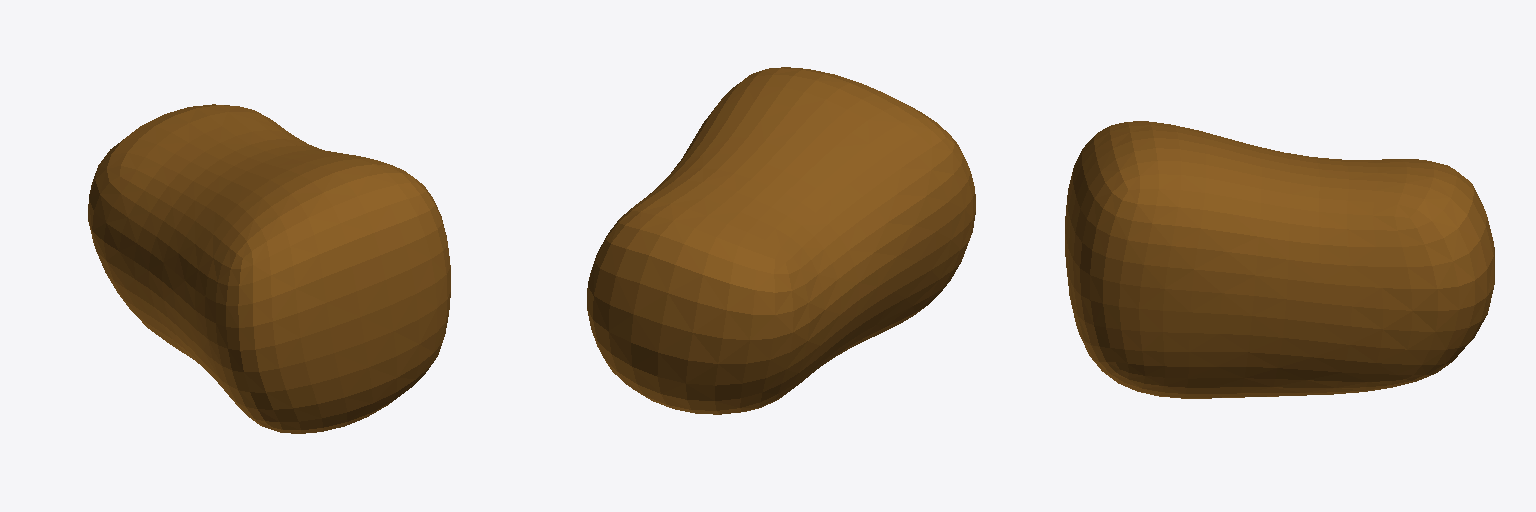
File: fing2_1.obj
3 renders of one model, left to right at view 1: azimuth 30°, elevation 25°; view 2: azimuth 150°, elevation 25°; view 3: azimuth 270°, elevation 25°, orthographic.
Visible parts, largest first — view 1: f2o1; view 2: f2o1; view 3: f2o1.
Boxes of the visible parts, box(x1,y1,x2,y2) form: f2o1: box(88, 104, 450, 433); f2o1: box(587, 67, 975, 414); f2o1: box(1065, 121, 1494, 398).
Bounding box in the file's own units: 0.8793 × 0.8921 × 1.38.